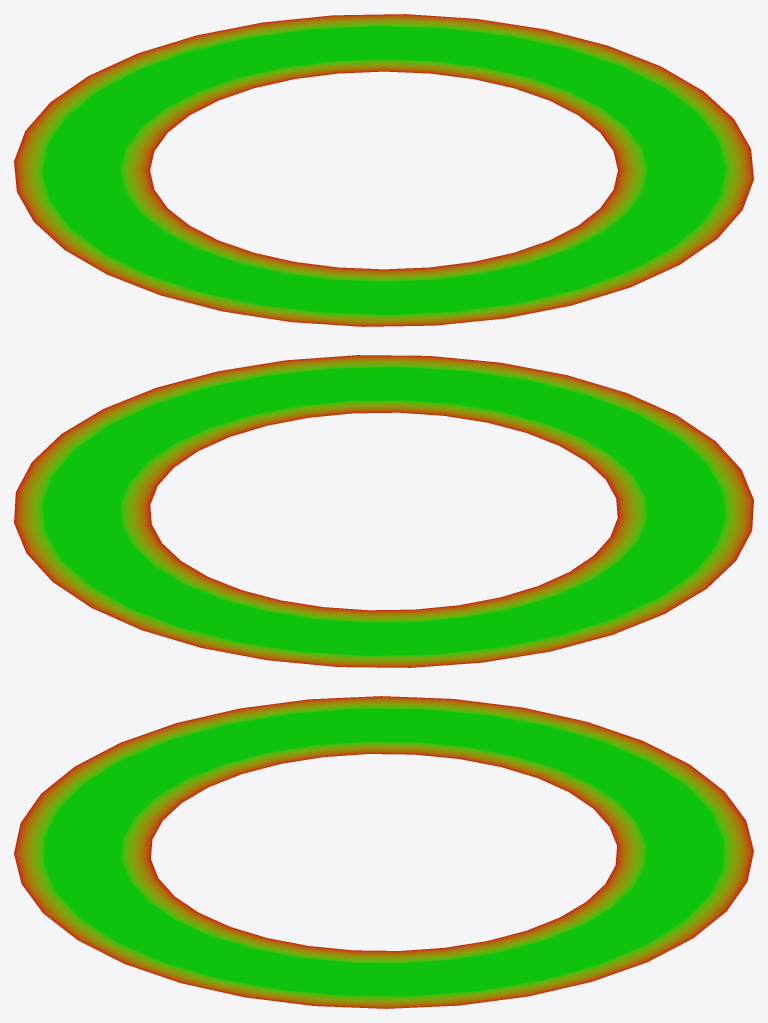
File: SM_RingPlant_02.FBX
3 renders of one model, top to bottom at view 1: azimuth 30°, elevation 25°; view 2: azimuth 150°, elevation 25°; view 3: azimuth 270°, elevation 25°, orthographic.
Parts seen in each view (by area): view 1: SM_RingPlant_02; view 2: SM_RingPlant_02; view 3: SM_RingPlant_02.
Boxes of the visible parts, box(x1,y1,x2,y2) form: SM_RingPlant_02: box(14, 14, 753, 326); SM_RingPlant_02: box(14, 355, 753, 667); SM_RingPlant_02: box(14, 696, 753, 1008).
Bounding box in the file's own units: 151 × 151 × 1.47e-05.
